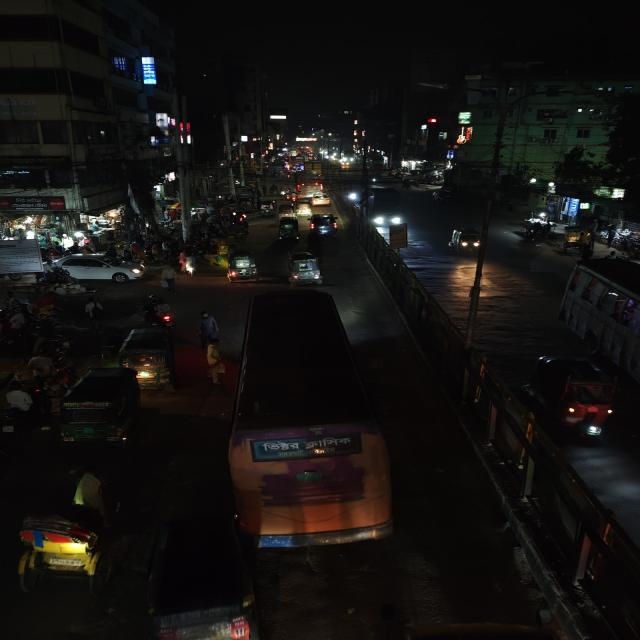bus: (222, 293, 392, 550), (556, 255, 640, 392)
car: (45, 251, 146, 285), (307, 211, 341, 237), (309, 192, 331, 208)
cng: (131, 519, 263, 640), (529, 351, 620, 439), (55, 366, 143, 452), (117, 327, 177, 389), (286, 249, 324, 287), (223, 248, 260, 284), (447, 226, 483, 258), (276, 216, 301, 240), (258, 198, 277, 217), (279, 201, 298, 219), (296, 201, 312, 216)
motorcycle: (144, 296, 177, 330)
pedestrian: (196, 310, 225, 385), (2, 382, 36, 420), (24, 353, 60, 385), (193, 310, 222, 348), (82, 297, 105, 322), (160, 265, 180, 293)
rickshaw: (9, 508, 121, 594)
truck: (0, 238, 50, 282), (362, 187, 403, 230)
